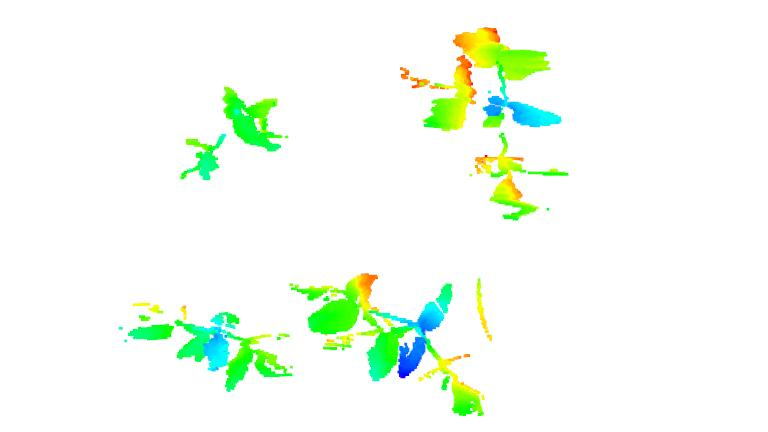mungbean: (399, 25, 567, 224), (283, 270, 493, 420), (121, 297, 294, 389), (174, 82, 289, 187)
